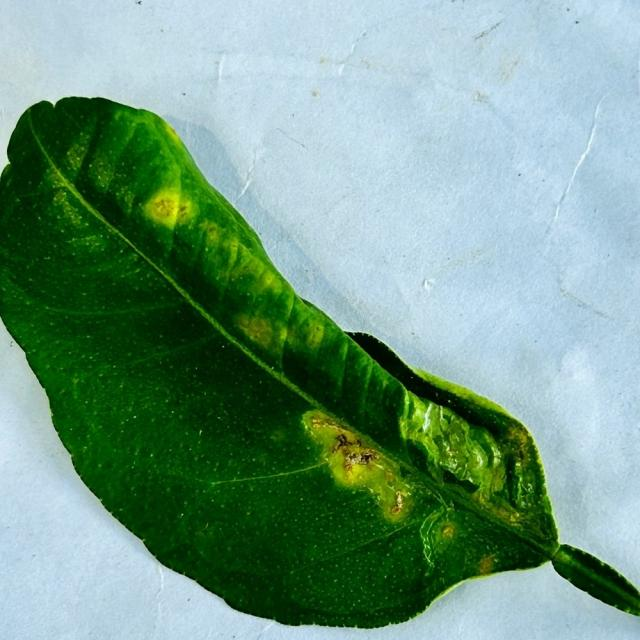Anthracnose: (302, 400, 524, 585), (298, 410, 417, 525), (38, 209, 131, 278), (418, 406, 490, 487), (44, 154, 109, 240), (143, 187, 184, 227), (236, 313, 275, 350), (87, 149, 118, 191), (64, 138, 89, 172), (312, 415, 350, 436), (503, 422, 530, 449), (332, 433, 359, 453), (200, 222, 221, 244), (51, 189, 71, 208), (310, 416, 331, 429), (268, 427, 286, 442), (346, 452, 363, 466), (169, 126, 177, 134), (82, 445, 88, 452), (70, 453, 75, 461), (50, 411, 54, 418)
Lemon: (0, 97, 639, 632)
